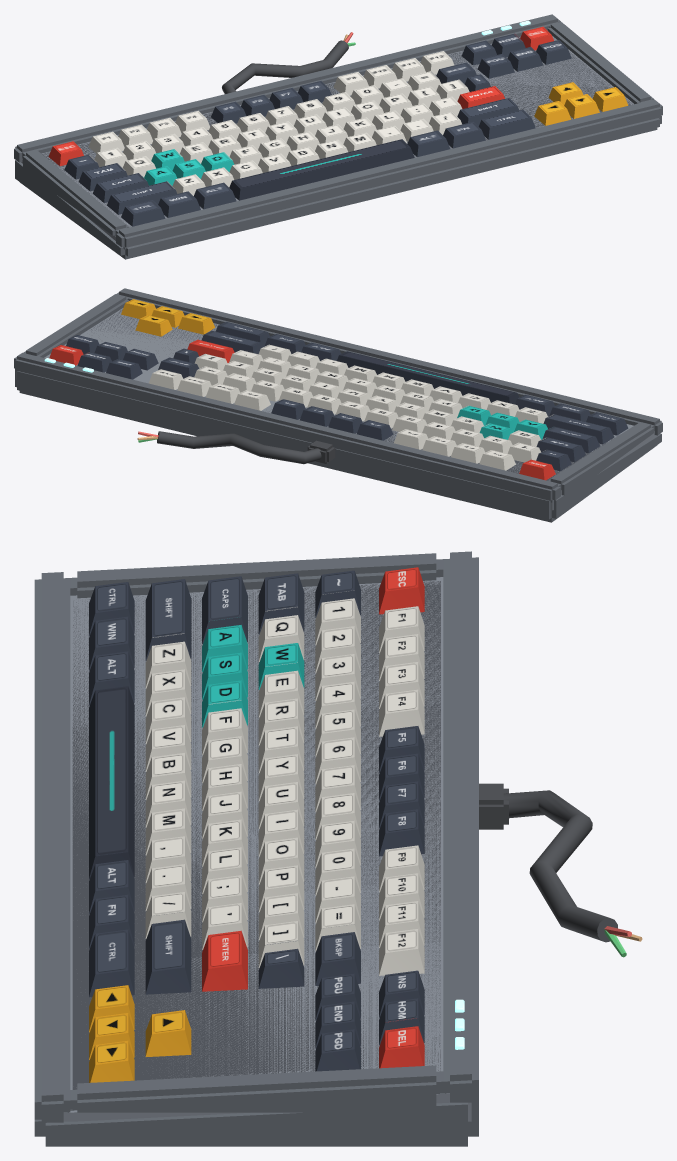
Rendered from proj_keyboard.glb.
3 views of the same model, one above another, from view 1: azimuth 30°, elevation 25°; view 2: azimuth 150°, elevation 25°; view 3: azimuth 270°, elevation 25° (orthographic). The views are drawn at different scales.
Parts seen in each view (by area): view 1: proj_keyboard; view 2: proj_keyboard; view 3: proj_keyboard.
Part boxes in pixels (<box>): proj_keyboard: <box>14,14,662,259</box>; proj_keyboard: <box>14,288,662,522</box>; proj_keyboard: <box>34,551,642,1146</box>.
Size of the model in its own units: 0.456 by 0.0353 by 0.2216.
Materials: 10 (1 with a texture image).
